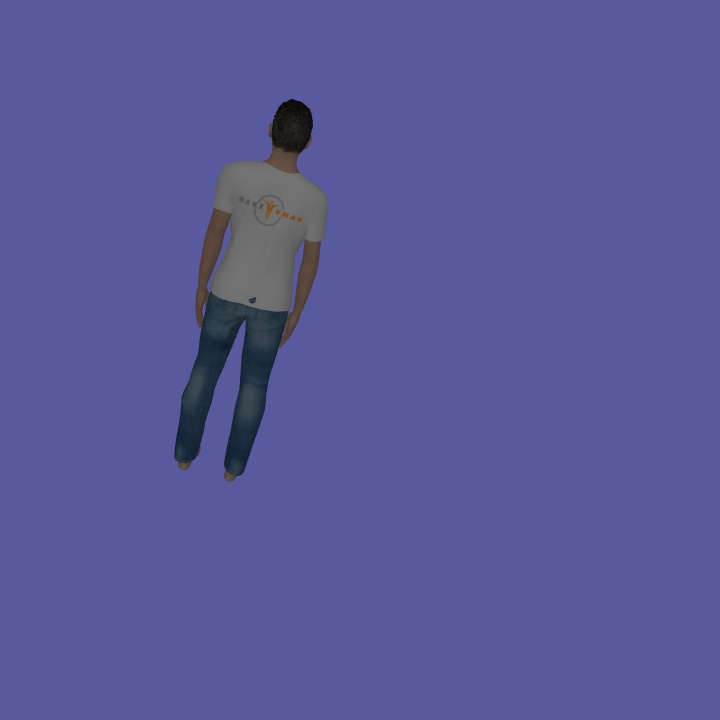victim: (168, 93, 331, 488)
